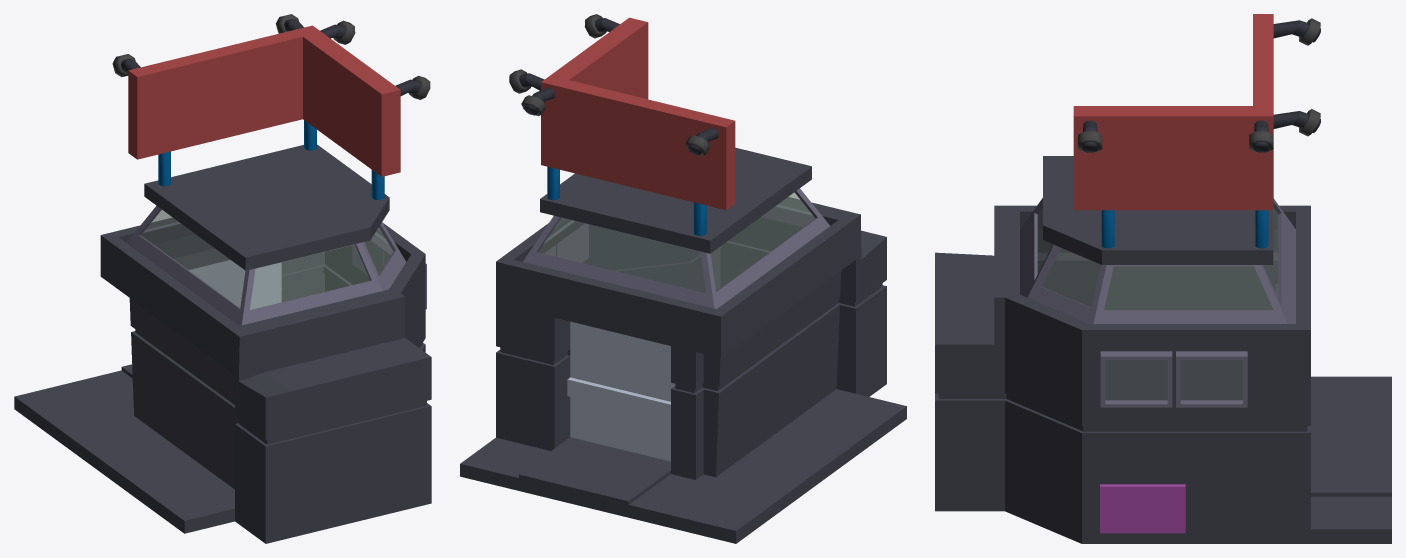
File: 5_Main.fbx
The picture shows the model from 3 angles, left to right: view 1: azimuth 30°, elevation 25°; view 2: azimuth 150°, elevation 25°; view 3: azimuth 270°, elevation 25°; orthographic projection. The views are drawn at different scales.
Visible parts, largest first — view 1: pasted___pCube14, pasted___pCube19, pasted___pCube39; view 2: pasted___pCube14, pasted___pCube19, pasted___pCube40; view 3: pasted___pCube14, pasted___pCube19, pasted___pCube24, pasted___pCube40, pasted___pCube39, pasted__pasted___polySurface97, pasted__pasted___polySurface95.
Part boxes in pixels (<box>): pasted___pCube14: <box>14,144,431,543</box>; pasted___pCube19: <box>128,25,400,176</box>; pasted___pCube39: <box>352,240,384,275</box>; pasted___pCube14: <box>460,147,906,543</box>; pasted___pCube19: <box>541,17,735,209</box>; pasted___pCube40: <box>557,223,588,262</box>; pasted___pCube14: <box>935,156,1391,543</box>; pasted___pCube19: <box>1073,14,1273,210</box>; pasted___pCube24: <box>1100,484,1185,533</box>; pasted___pCube40: <box>1100,351,1172,407</box>; pasted___pCube39: <box>1176,351,1247,407</box>; pasted__pasted___polySurface97: <box>1273,20,1320,42</box>; pasted__pasted___polySurface95: <box>1273,111,1320,133</box>.
Bounding box in the file's own units: 5.15 × 6.26 × 6.29.
